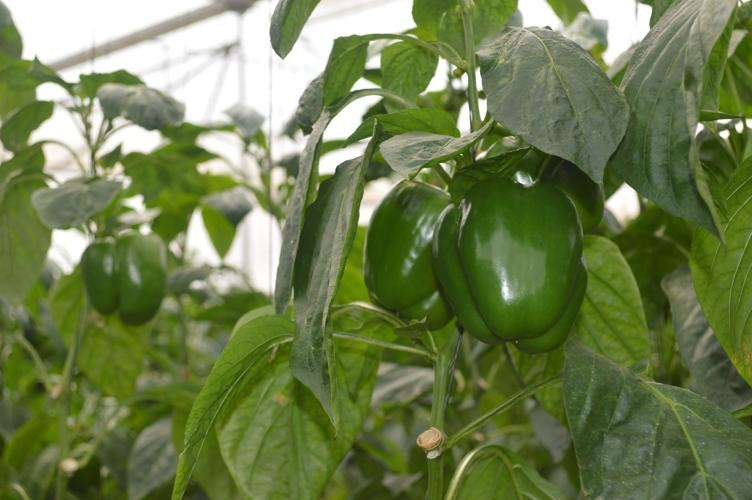BellPepper: (427, 182, 584, 356), (362, 182, 449, 332), (79, 235, 166, 323)
